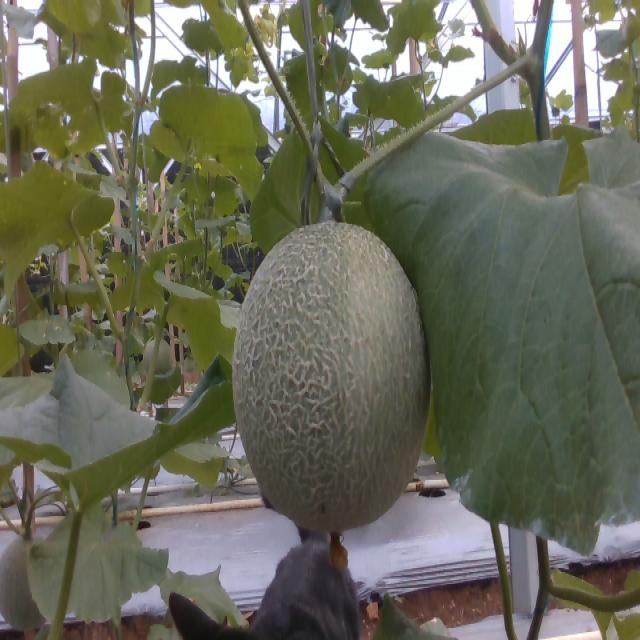melon: (233, 221, 431, 533)
